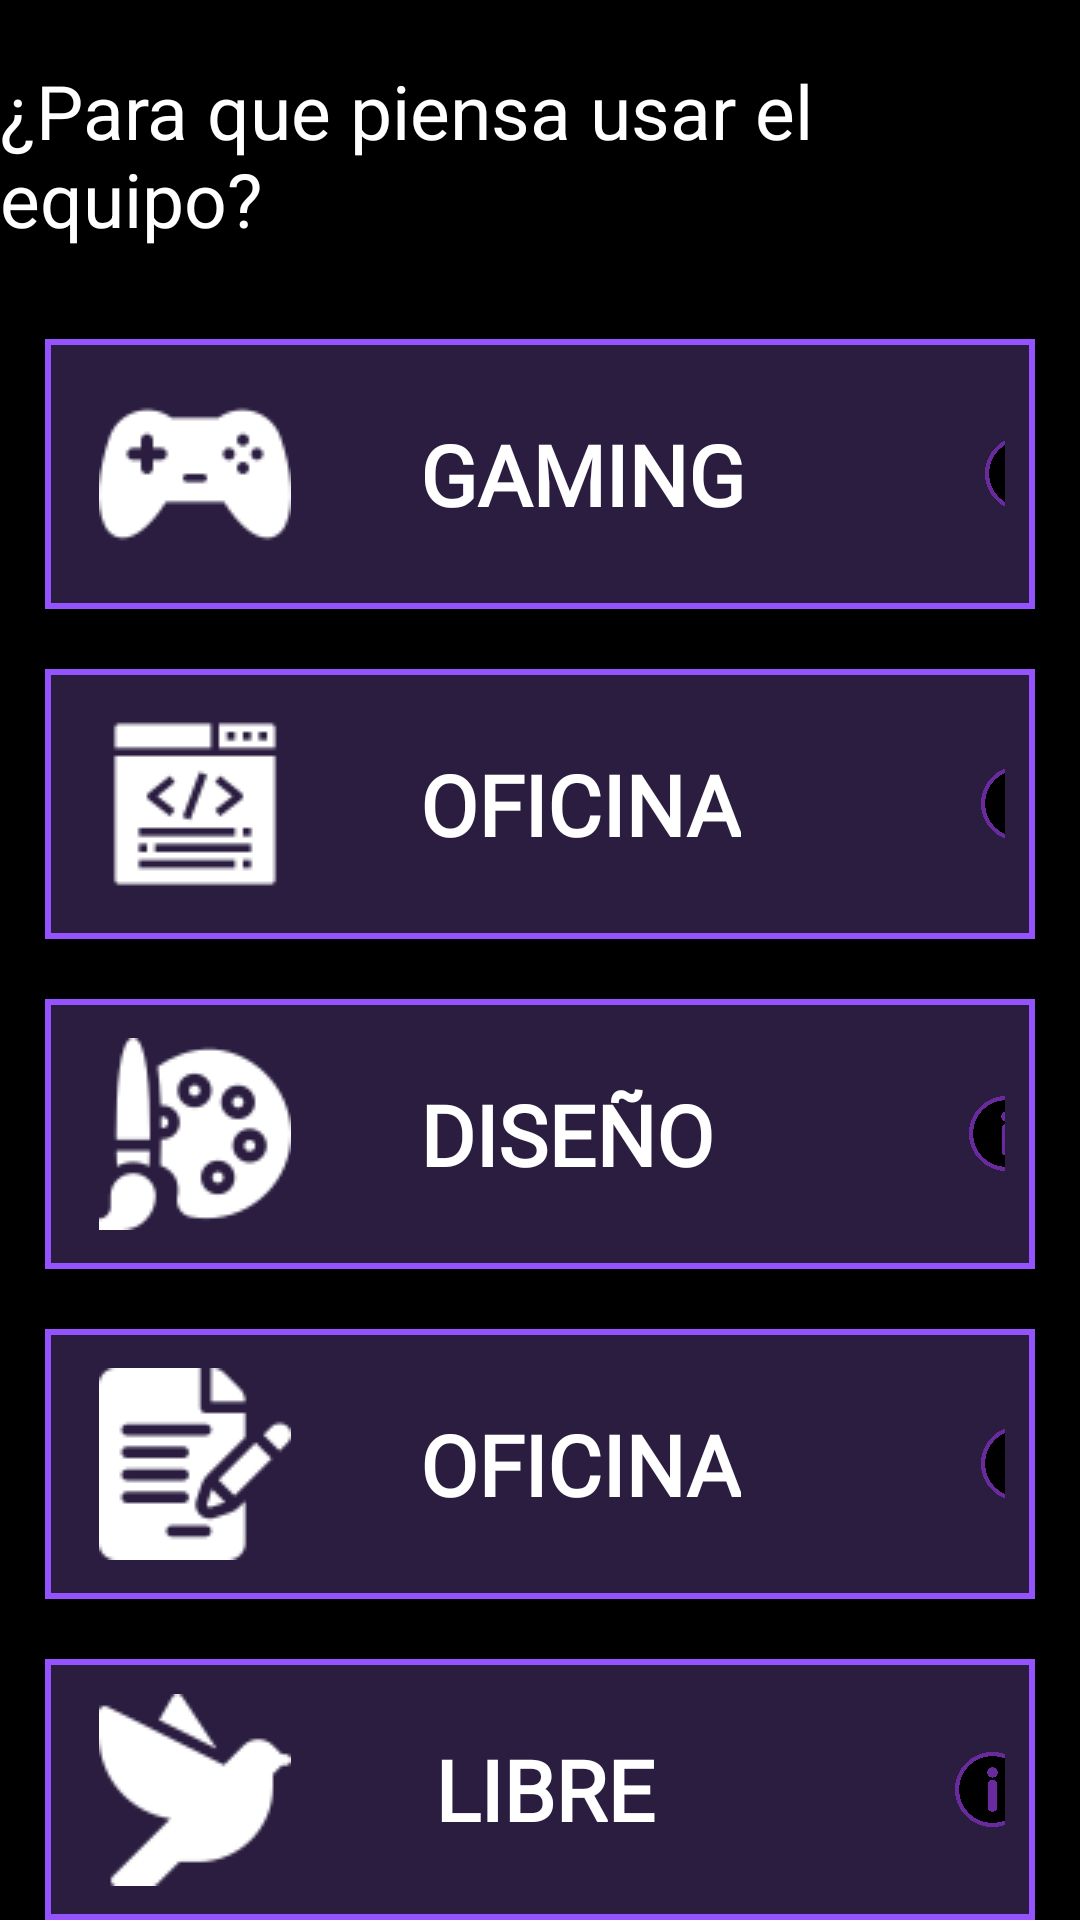

Screen size 1080 x 1920. Icon name, then its box in pixels as (x1, y1, x2, y2):
desing: (99, 1038, 291, 1230)
mando: (99, 407, 291, 540)
office: (99, 1368, 291, 1560)
programming: (113, 722, 277, 886)
